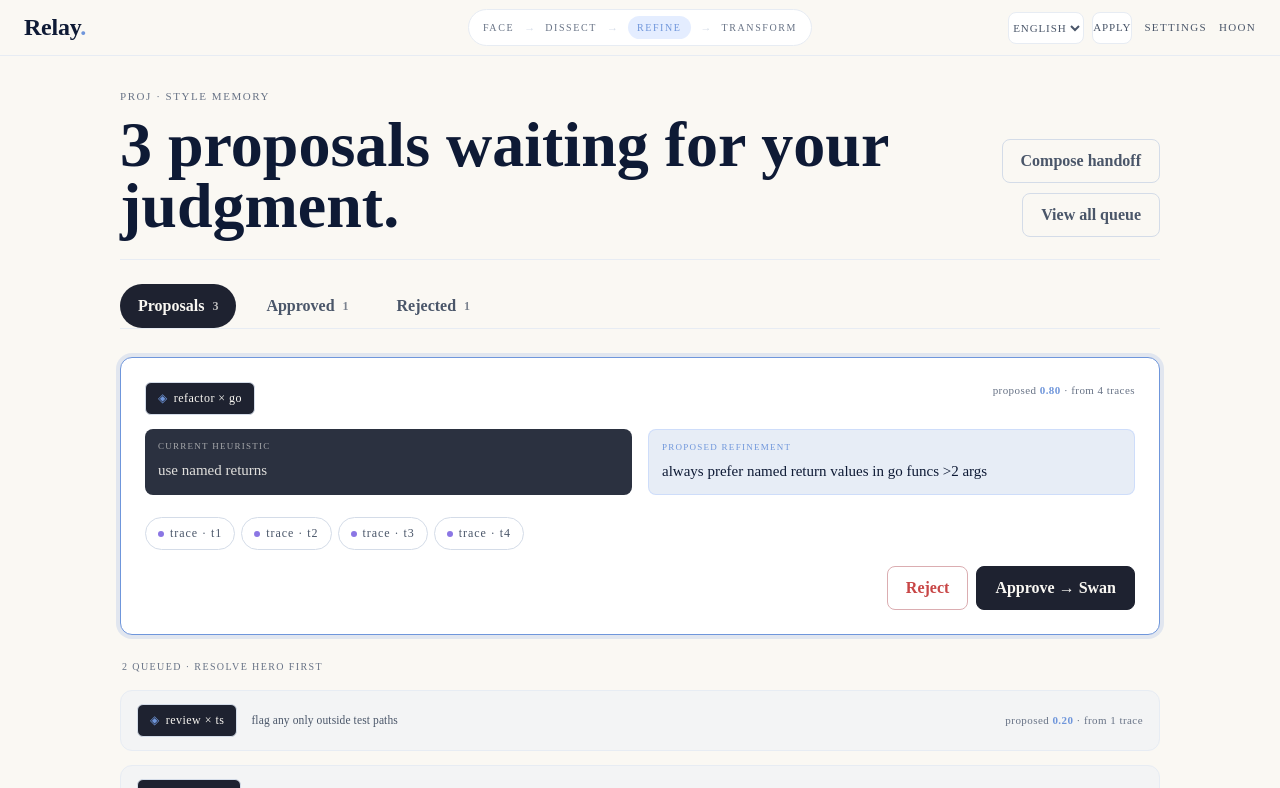
it: reject overlay › disables submit until exactly one chip is selected
What coordinates should you click on to do the following:
click the button "Reject"
I would click on:
 (928, 588)
Its box is [887, 566, 968, 610].
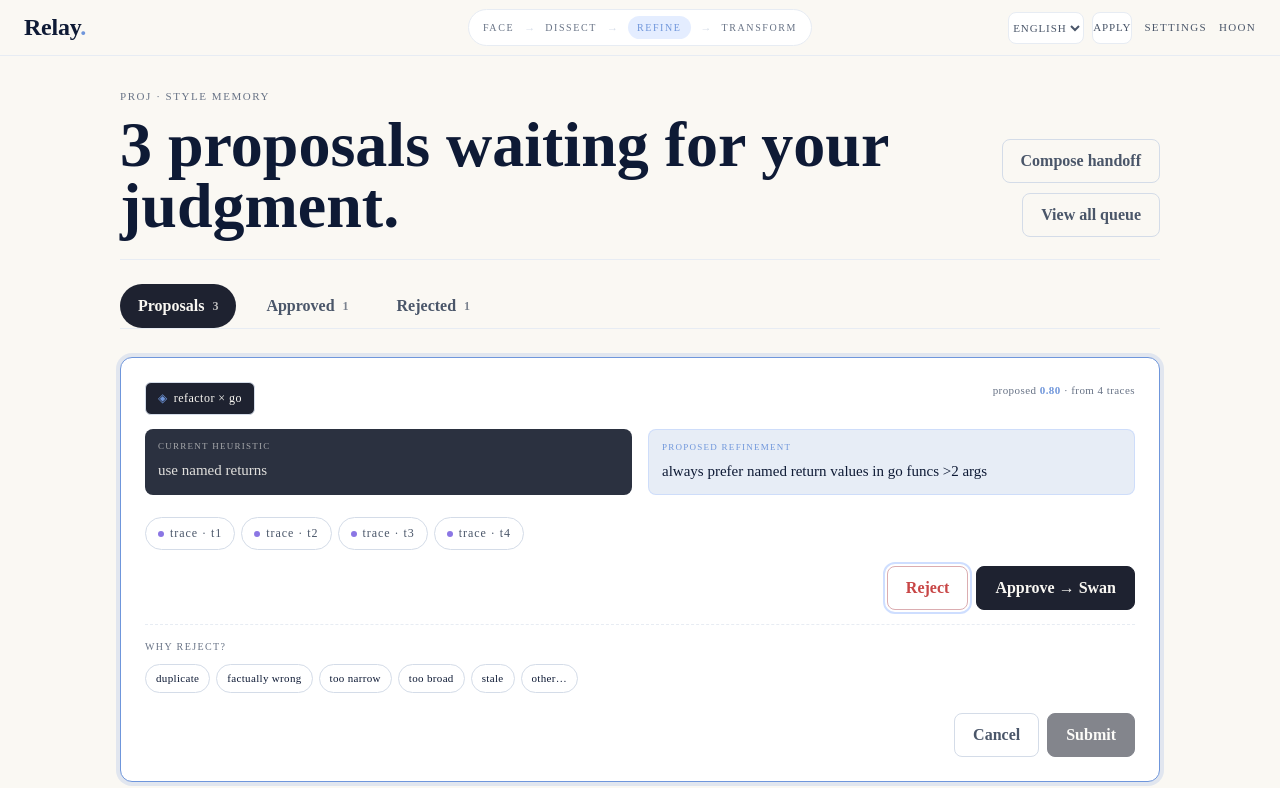
Expected: the button with test id "reject-submit" is disabled, [1047, 713, 1135, 757]
What coordinates should you click on to do the following:
click the button with test id "reject-chip-duplicate"
I would click on:
 (178, 679)
Its box is [145, 664, 210, 693].
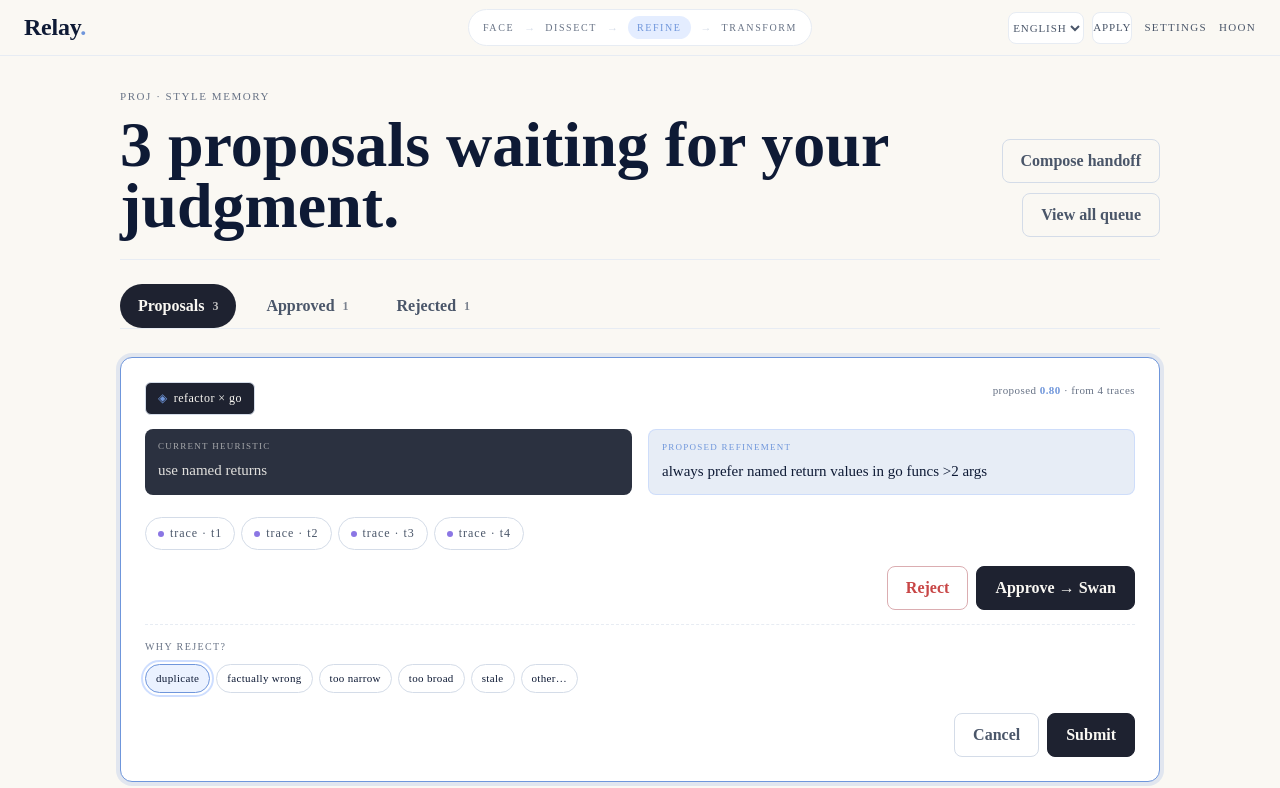
Expected: the button with test id "reject-submit" is enabled, [1047, 713, 1135, 757]
